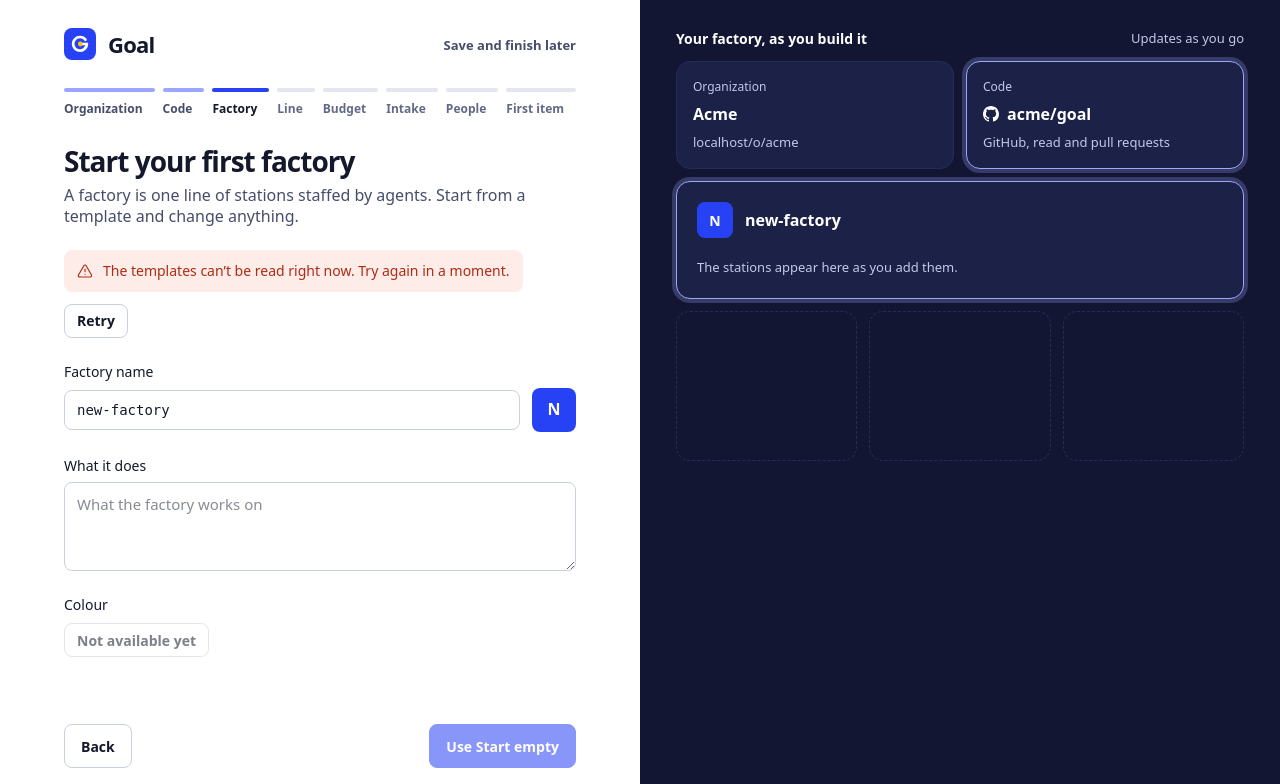
Test: step 3, pick a template › shows the error with Retry, and loads the templates again on Retry
This screenshot has width=1280, height=784.
Expected: the message "The templates can’t be read right now. Try again in a moment. Retry" is shown, [64,250,576,338]
Step 1. Click the button "Retry" → (96, 321), box [64,304,128,338]
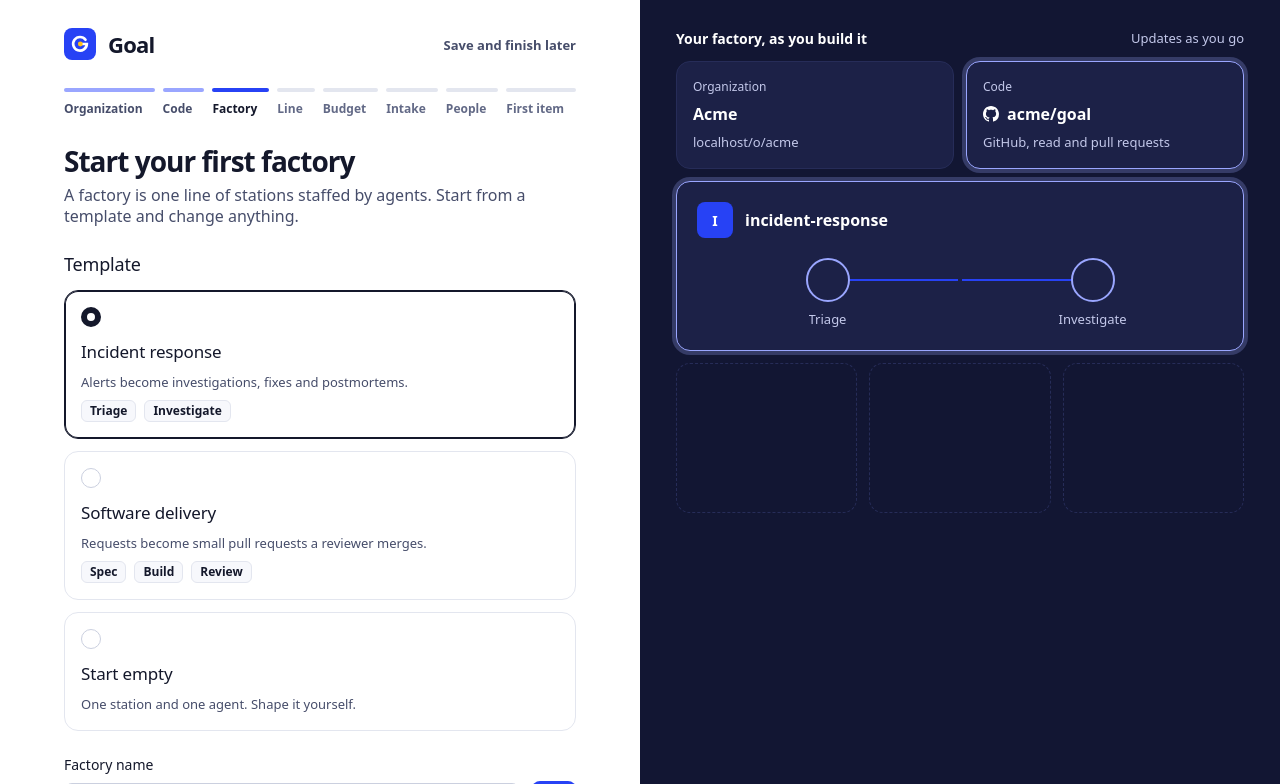
Expected: the radio button labelled "Software delivery" is shown, [81,468,101,488]
